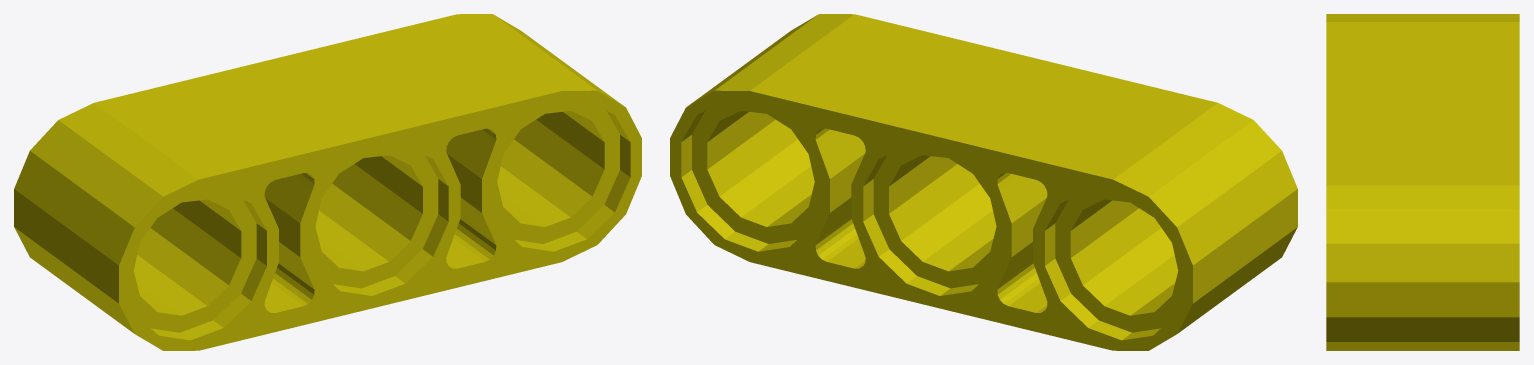
File: Ye_4153707_AVV.fbx
3 renders of one model, left to right at view 1: azimuth 30°, elevation 25°; view 2: azimuth 150°, elevation 25°; view 3: azimuth 270°, elevation 25°, orthographic. The views are drawn at different scales.
Visible parts, largest first — view 1: Ye_4153707_AVV; view 2: Ye_4153707_AVV; view 3: Ye_4153707_AVV.
Boxes of the visible parts, box(x1,y1,x2,y2) form: Ye_4153707_AVV: box(14, 14, 641, 350); Ye_4153707_AVV: box(670, 14, 1297, 350); Ye_4153707_AVV: box(1326, 14, 1519, 350).
Size of the model in its own units: 2.3 by 0.72 by 0.8.
